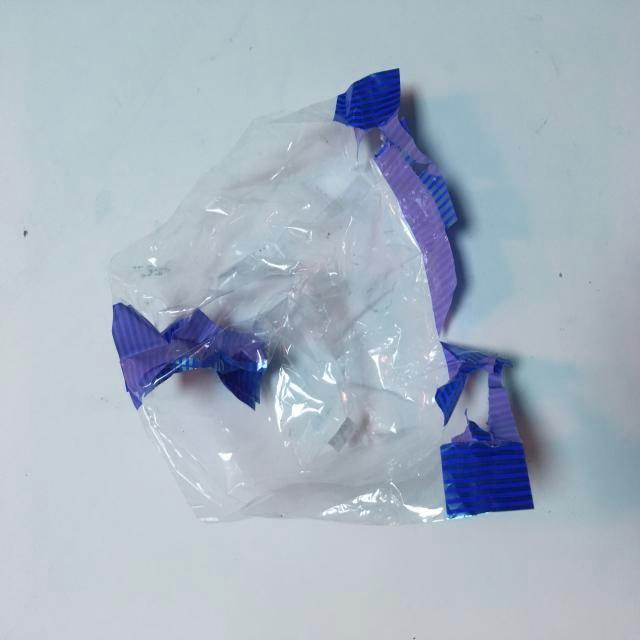plastic: (111, 72, 535, 523)
